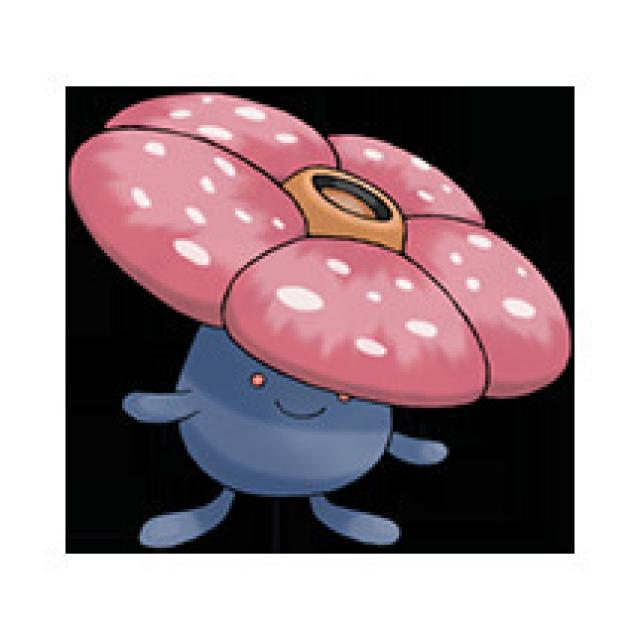Vileplume: (68, 90, 574, 548)
